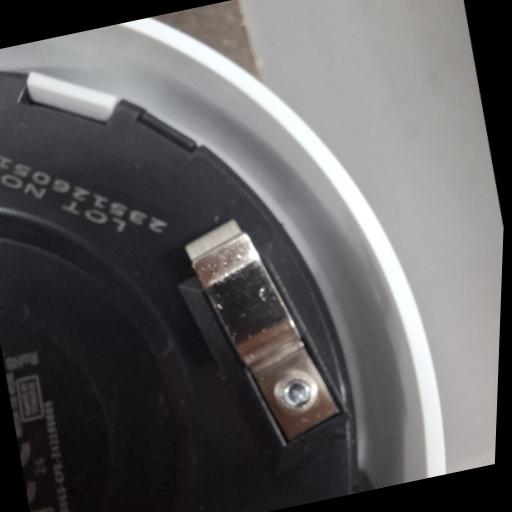yayli: (172, 205, 354, 457)
